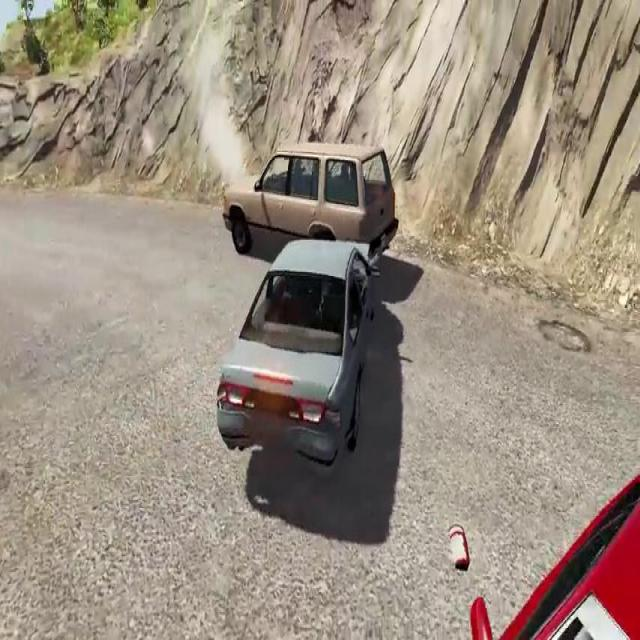moderate: (217, 120, 400, 476)
